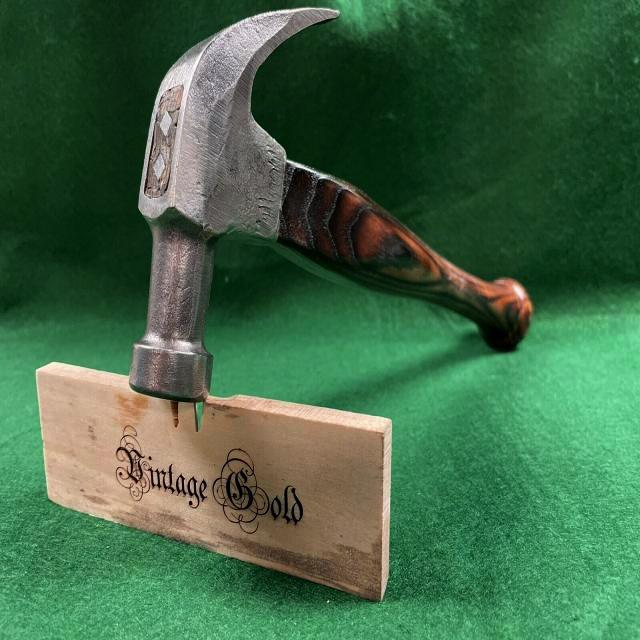hammer: (120, 0, 539, 405)
